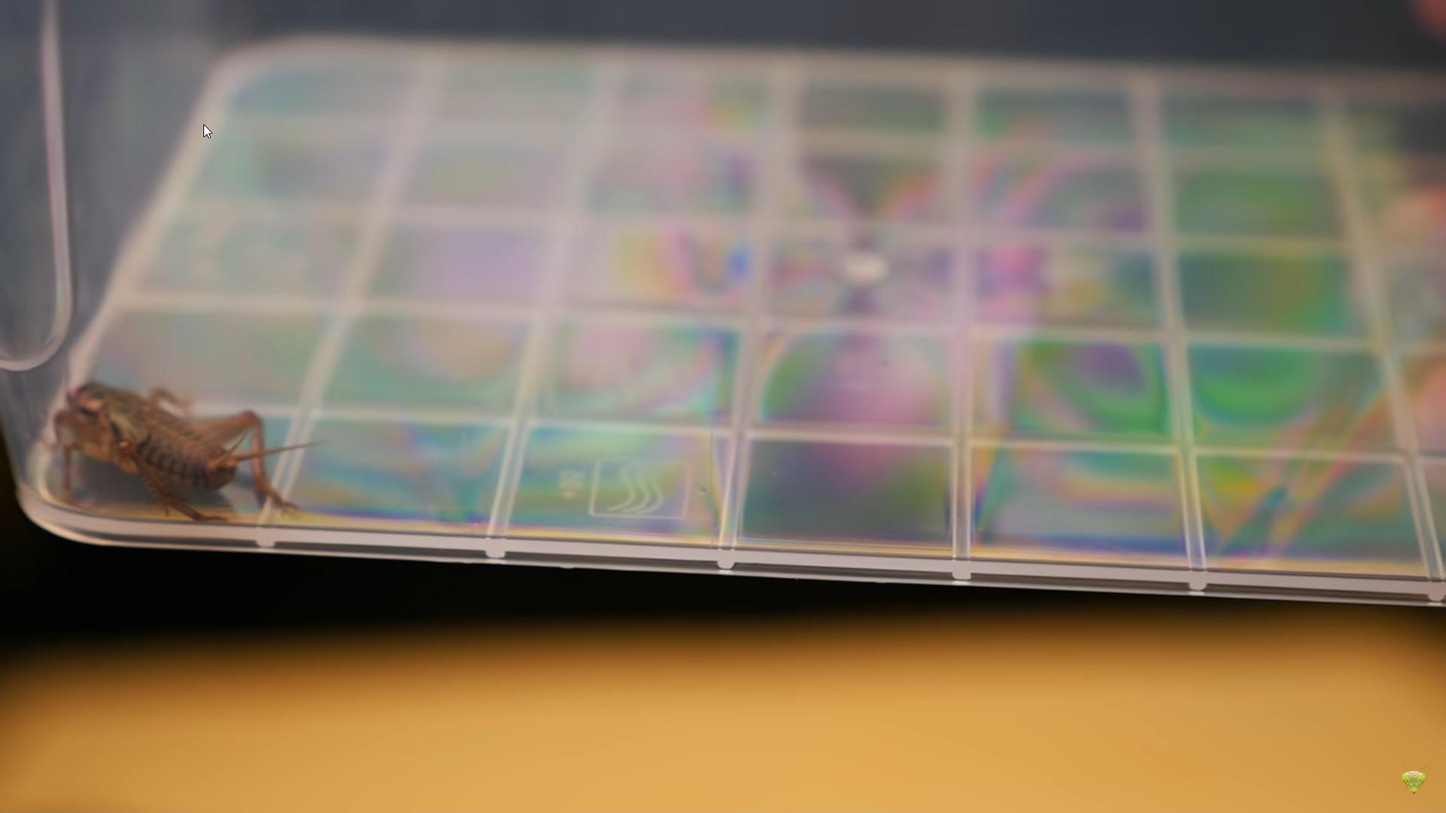cockroach: (42, 361, 301, 527)
